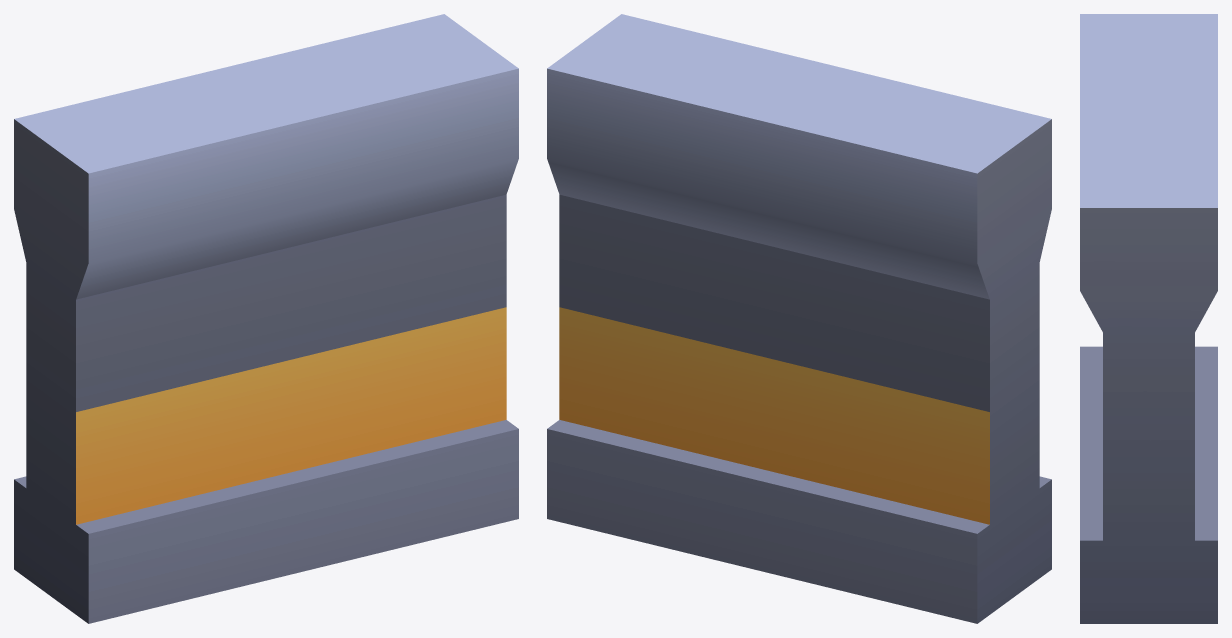
File: station-banner.glb
3 views of the same model, side by side, from view 1: azimuth 30°, elevation 25°; view 2: azimuth 150°, elevation 25°; view 3: azimuth 270°, elevation 25° (orthographic). The views are drawn at different scales.
Visible parts, largest first — view 1: wall-banner; view 2: wall-banner; view 3: wall-banner.
Boxes of the visible parts, bbox=[...] form: wall-banner: bbox=[14, 14, 518, 623]; wall-banner: bbox=[547, 14, 1051, 623]; wall-banner: bbox=[1080, 14, 1217, 623].
Size of the model in its own units: 1 by 1 by 0.3.
Materials: 1 (1 with a texture image).
